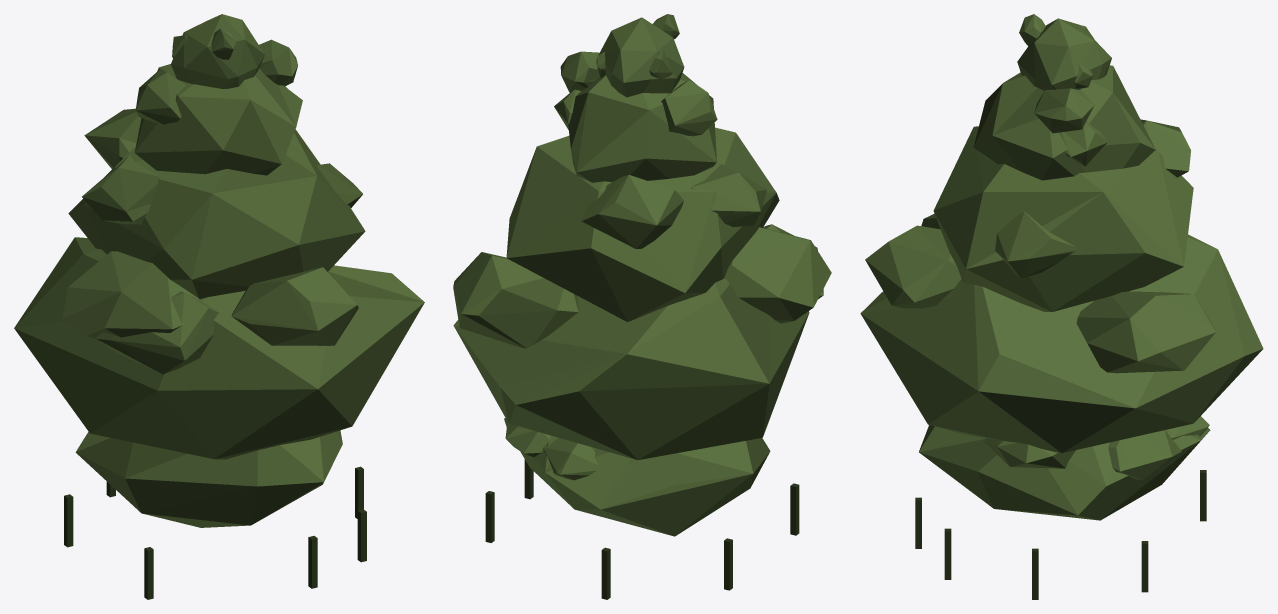
Rendered from Leaves_C.glb.
3 views of the same model, side by side, from view 1: azimuth 30°, elevation 25°; view 2: azimuth 150°, elevation 25°; view 3: azimuth 270°, elevation 25° (orthographic).
Visible parts, largest first — view 1: Leaves; view 2: Leaves; view 3: Leaves.
Part boxes in pixels (left/top/right/bottom): Leaves: left=14, top=14, right=424, bottom=599; Leaves: left=453, top=14, right=831, bottom=599; Leaves: left=860, top=14, right=1263, bottom=599.
Bounding box in the file's own units: 10.35 × 15.7 × 11.05.
